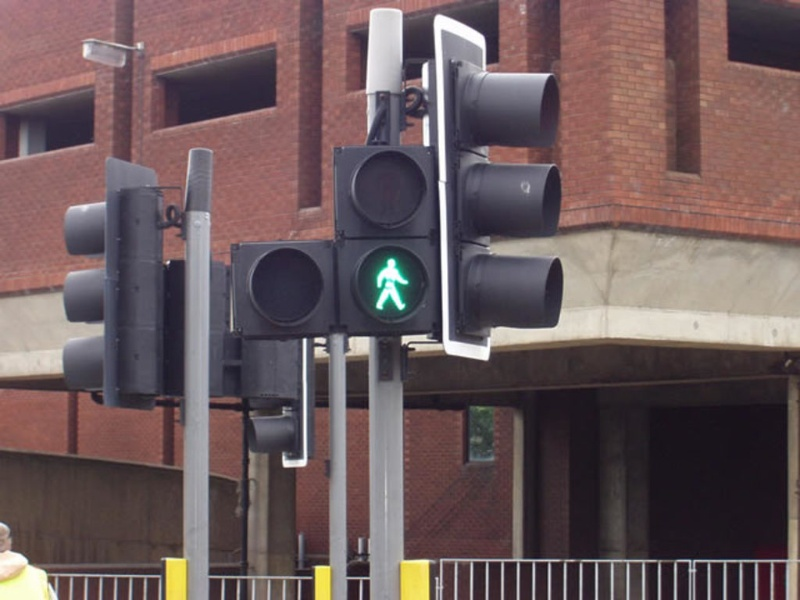pedestrian_crossing_green: (334, 246, 433, 325)
